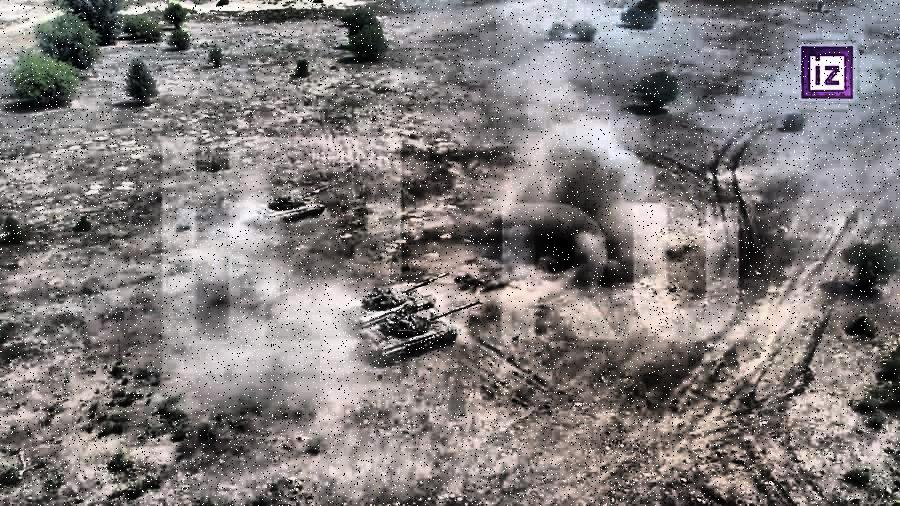military-vehicle: (358, 302, 480, 365), (342, 273, 449, 331)
